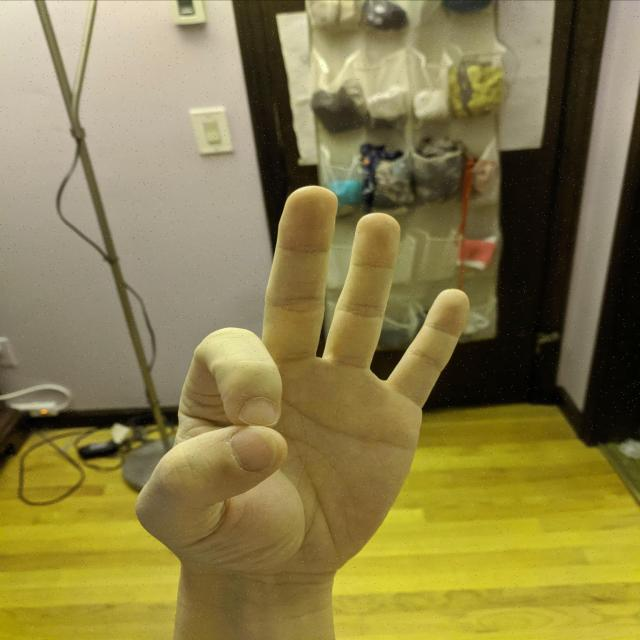F: (126, 183, 476, 586)
